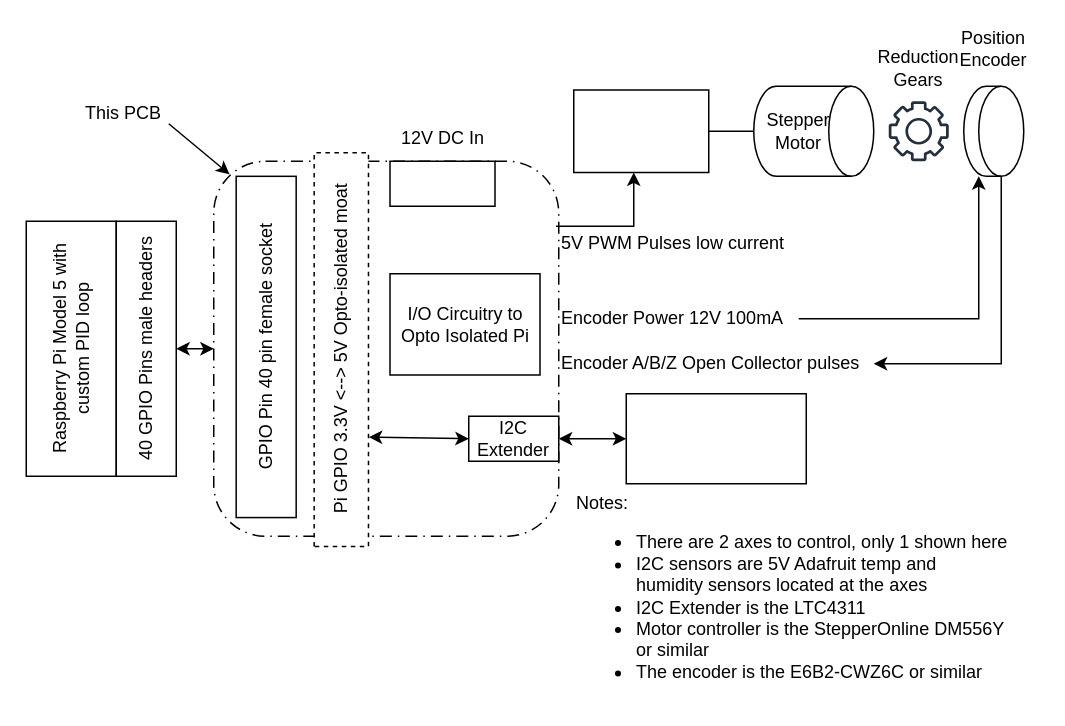
The diagram is 1065 pixels wide and 726 high, and some of its shapes have lost their labels. Here are the shapes that lost their labels. From the top down, the box of each, then its label:
(572, 88, 709, 172): DC Motor Controller PWM
(388, 160, 495, 206): 12 to 5V
(625, 392, 806, 484): I2C Sensors
